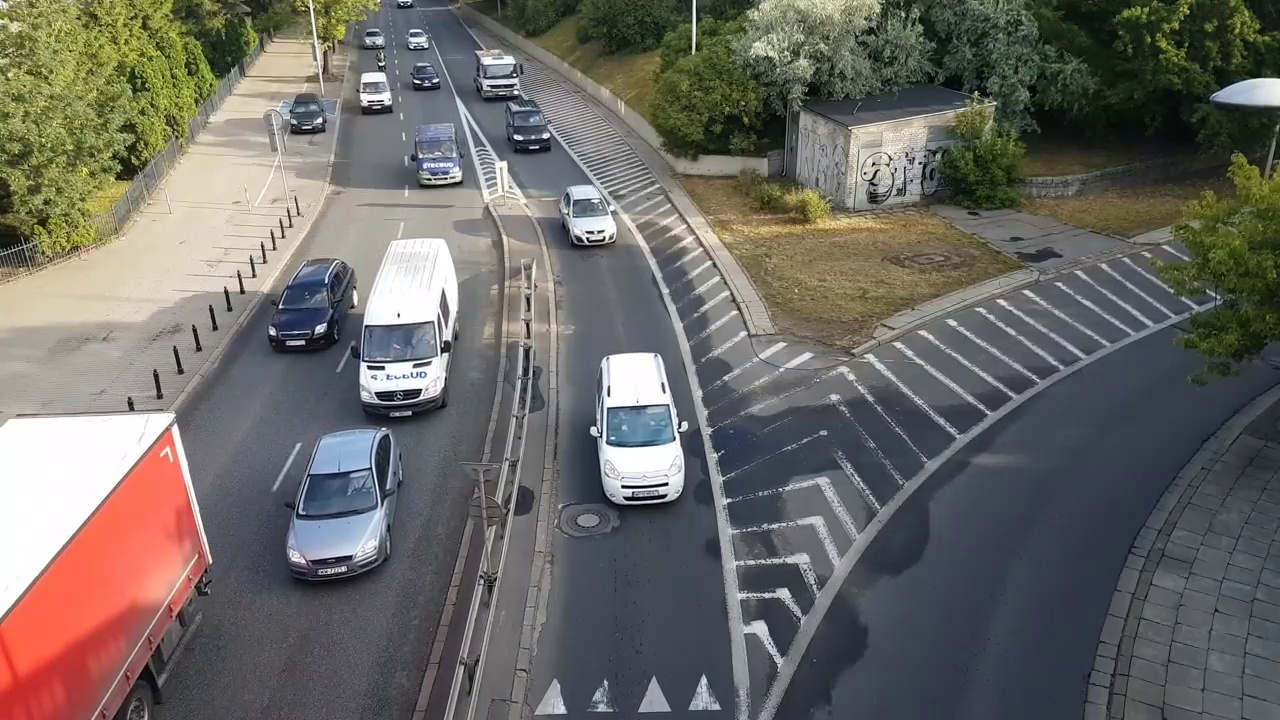car: (358, 237, 457, 421), (289, 426, 399, 585), (595, 351, 684, 507), (271, 258, 354, 356), (558, 186, 616, 248), (414, 123, 463, 189), (504, 93, 550, 159), (474, 47, 521, 101), (357, 72, 395, 111), (291, 93, 324, 135), (412, 62, 438, 93), (405, 28, 429, 52), (363, 28, 385, 47)
motorbike: (375, 47, 387, 70)
